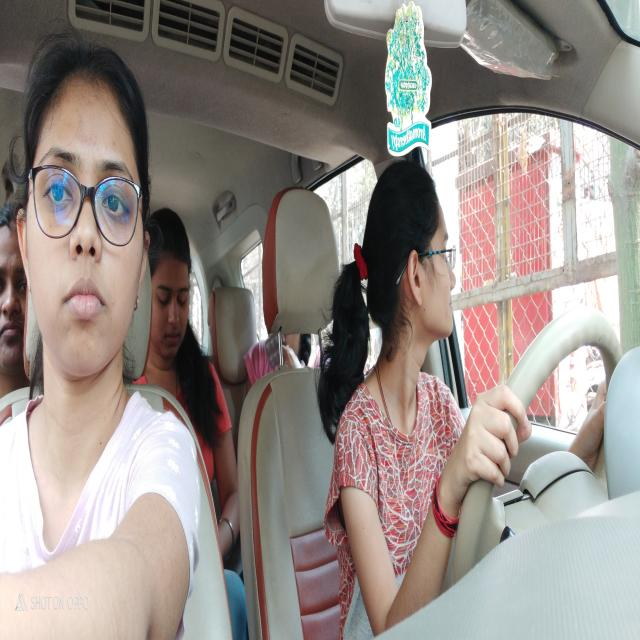LeftRight: (373, 155, 459, 351)
person: (30, 74, 151, 370), (158, 247, 193, 355), (0, 225, 24, 372)
